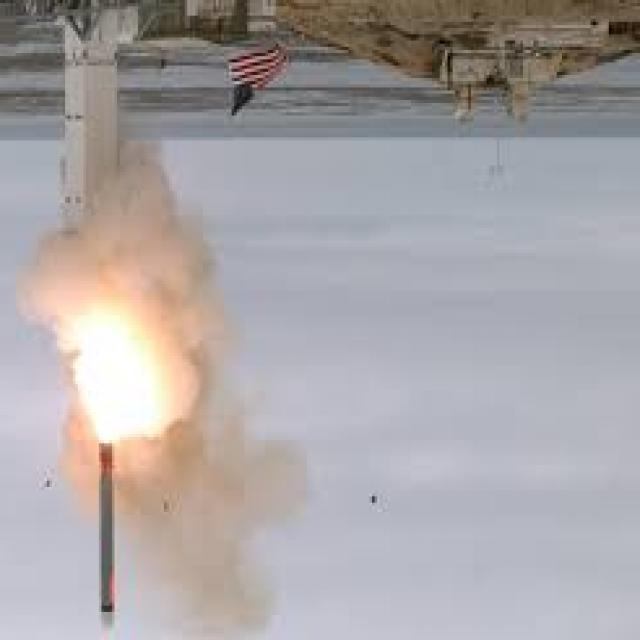missile: (87, 433, 123, 636)
